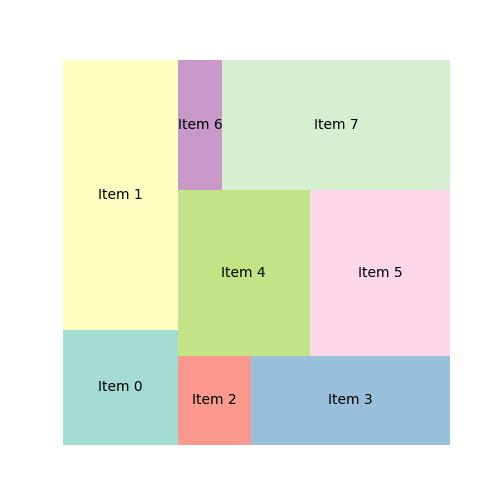rectangle: (63, 61, 180, 329), (221, 57, 449, 191), (311, 189, 450, 357), (179, 190, 311, 356), (250, 355, 451, 444), (63, 329, 180, 445), (178, 354, 251, 446), (179, 59, 222, 189)
